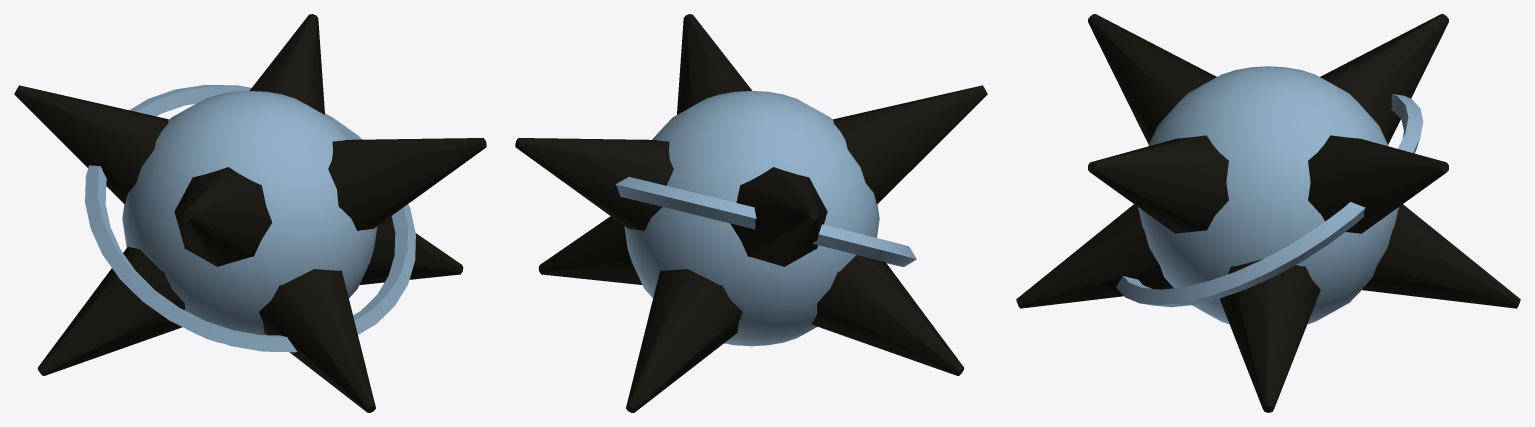
The model's file is planetenkern_erstling.obj.
3 views of the same model, side by side, from view 1: azimuth 30°, elevation 25°; view 2: azimuth 150°, elevation 25°; view 3: azimuth 270°, elevation 25° (orthographic). The views are drawn at different scales.
Visible parts, largest first — view 1: Planetenkern_Erstling; view 2: Planetenkern_Erstling; view 3: Planetenkern_Erstling.
Part boxes in pixels (x1=…): Planetenkern_Erstling: x1=14, y1=14, x2=486, y2=412; Planetenkern_Erstling: x1=515, y1=14, x2=987, y2=412; Planetenkern_Erstling: x1=1016, y1=14, x2=1520, y2=412.
Size of the model in its own units: 0.9148 by 0.48 by 0.9148.
